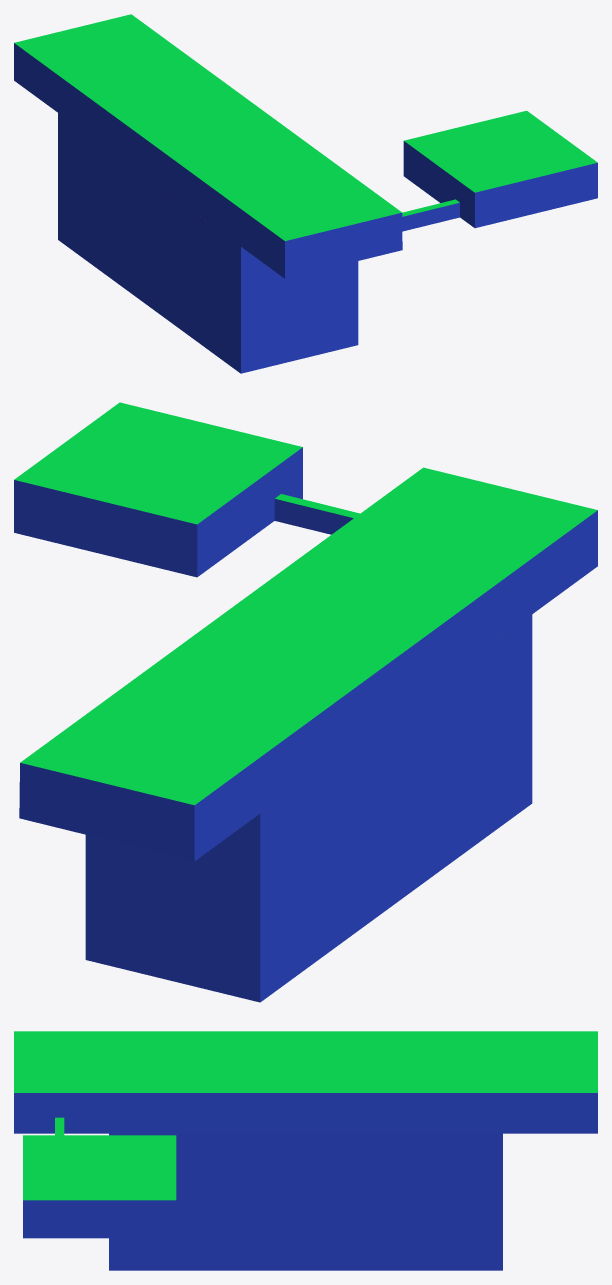
The model's file is Crypt 1.fbx.
The picture shows the model from 3 angles, top to bottom: view 1: azimuth 30°, elevation 25°; view 2: azimuth 150°, elevation 25°; view 3: azimuth 270°, elevation 25°; orthographic projection. The views are drawn at different scales.
Parts seen in each view (by area): view 1: Cube.001; view 2: Cube.001; view 3: Cube.001.
Part boxes in pixels (box(x1,y1,x2,y2)): Cube.001: box(14, 14, 597, 373); Cube.001: box(14, 402, 597, 1002); Cube.001: box(14, 1031, 597, 1270).
Size of the model in its own units: 9273 by 4604 by 13726.
